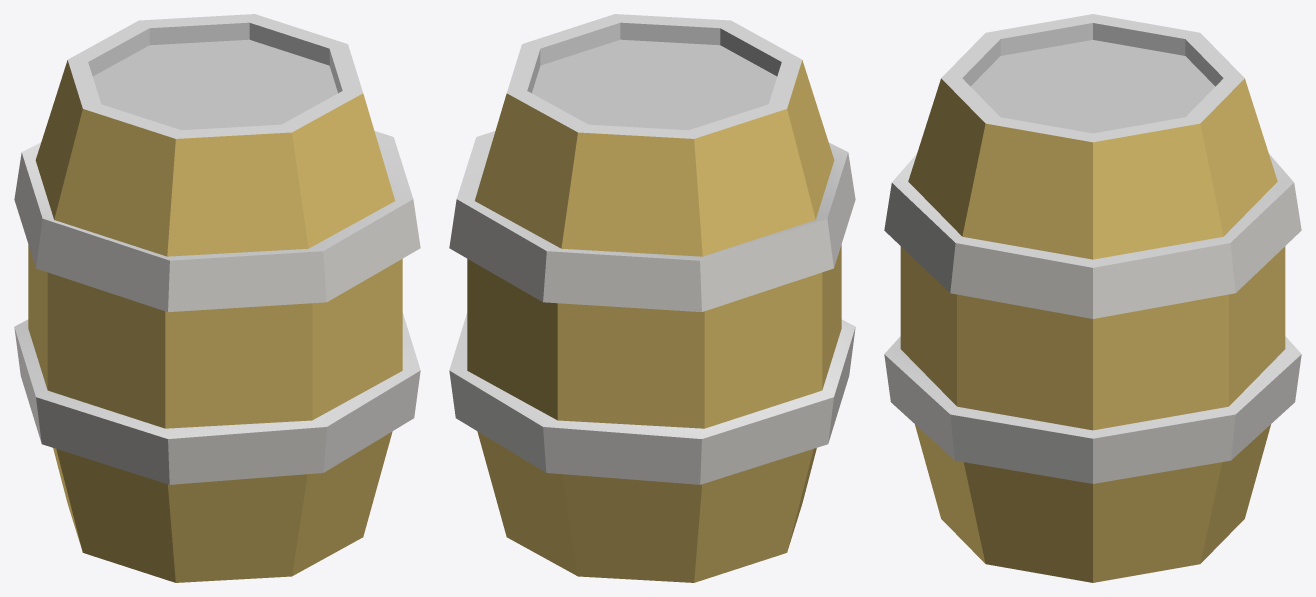
The model's file is drum.fbx.
3 renders of one model, left to right at view 1: azimuth 30°, elevation 25°; view 2: azimuth 150°, elevation 25°; view 3: azimuth 270°, elevation 25°, orthographic.
Visible parts, largest first — view 1: pCylinder1; view 2: pCylinder1; view 3: pCylinder1.
Boxes of the visible parts, left/top/right/bottom form: pCylinder1: left=14, top=14, right=420, bottom=582; pCylinder1: left=449, top=14, right=855, bottom=582; pCylinder1: left=884, top=14, right=1301, bottom=582.
Bounding box in the file's own units: 4.54 × 5.28 × 4.54.
